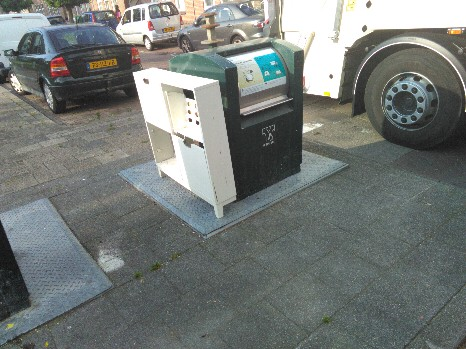Container: (201, 41, 308, 183)
Rest: (137, 67, 243, 234)
Voertuig: (307, 21, 466, 156), (21, 24, 125, 102), (198, 5, 263, 41), (123, 8, 179, 47)
